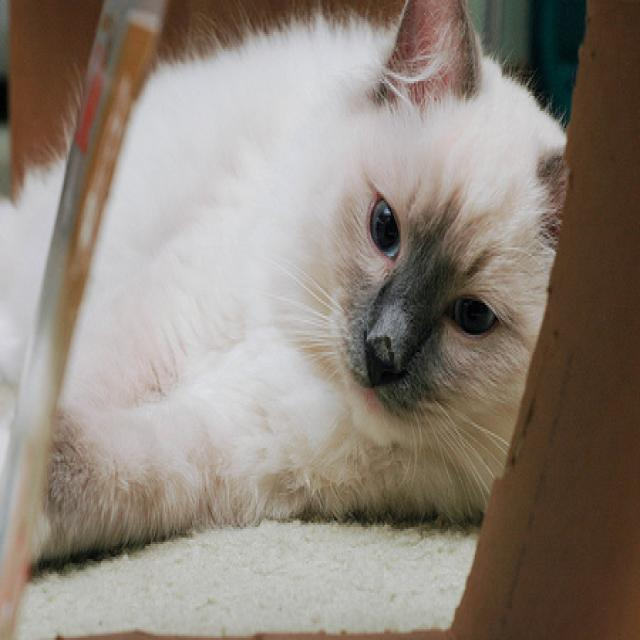Ragdoll: (0, 0, 574, 580)
